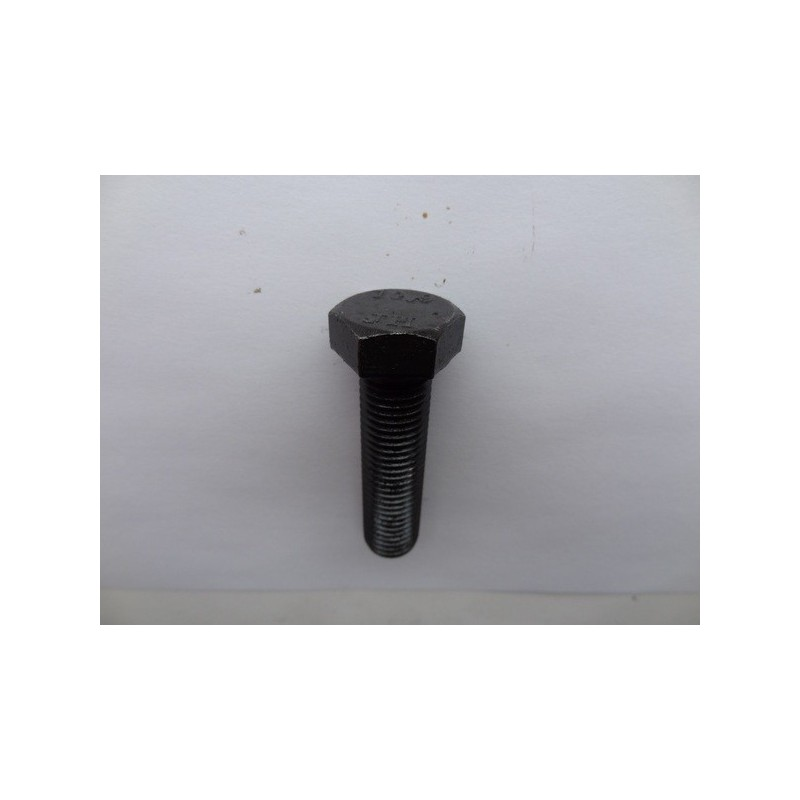screw: (327, 288, 467, 561)
